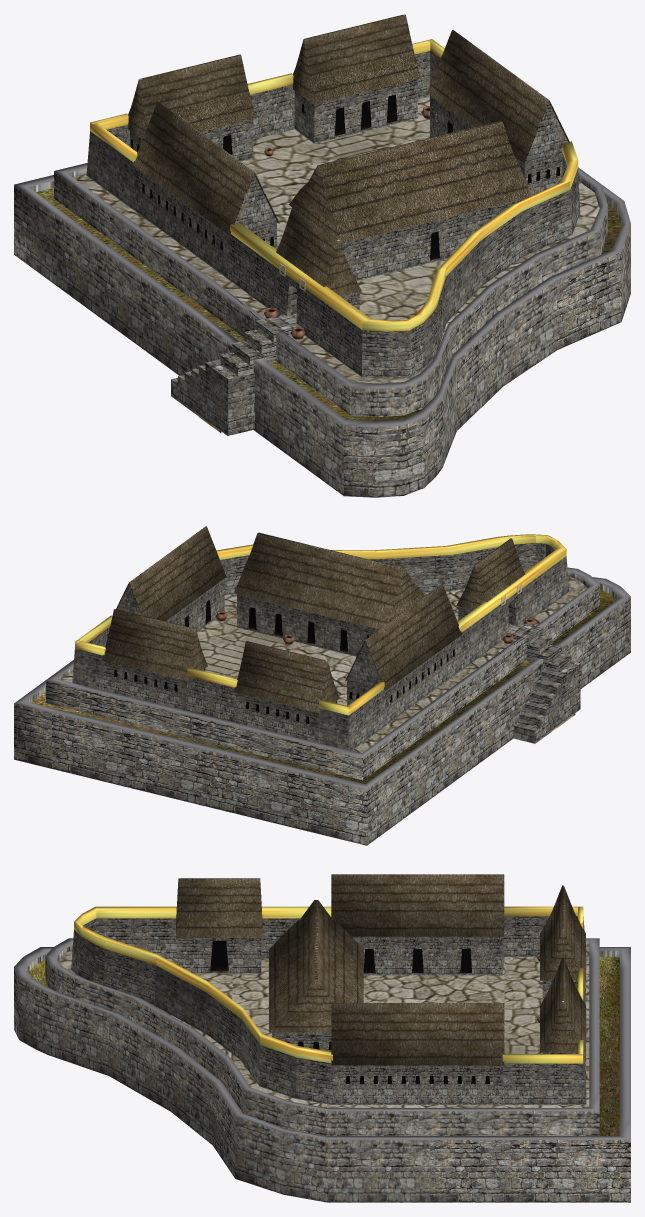
Rendered from inca_wonder.dae.
3 renders of one model, top to bottom at view 1: azimuth 30°, elevation 25°; view 2: azimuth 150°, elevation 25°; view 3: azimuth 270°, elevation 25°, orthographic. The views are drawn at different scales.
Visible parts, largest first — view 1: coricacha.004; view 2: coricacha.004; view 3: coricacha.004.
Part boxes in pixels (box(x1,y1,x2,y2)): coricacha.004: box(14, 14, 630, 497); coricacha.004: box(14, 526, 630, 845); coricacha.004: box(14, 874, 630, 1202).
Bounding box in the file's own units: 53.89 × 68.82 × 20.74.
